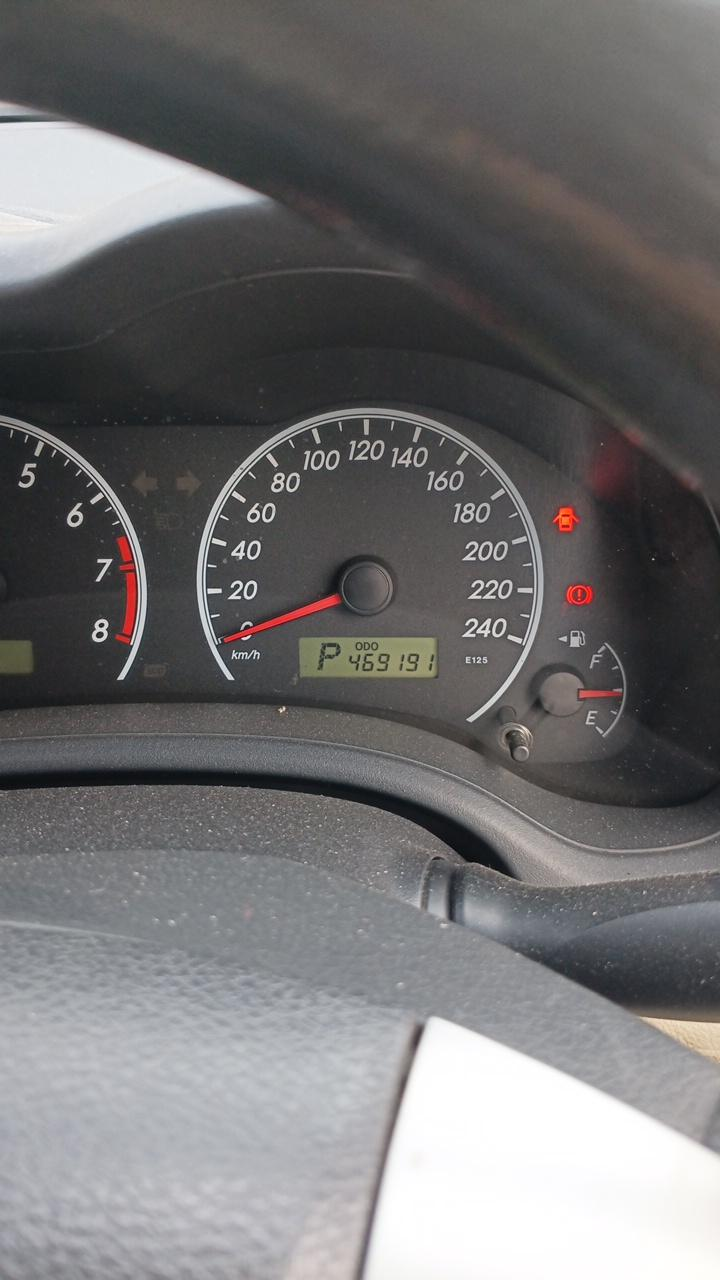1: (428, 654, 435, 671), (399, 654, 405, 671)
4: (348, 654, 361, 672)
6: (362, 653, 374, 672)
9: (376, 653, 390, 672), (406, 653, 419, 672)
X: (317, 642, 342, 671), (355, 642, 363, 651), (371, 642, 379, 651), (364, 642, 370, 651)
odometer: (298, 637, 439, 680)
